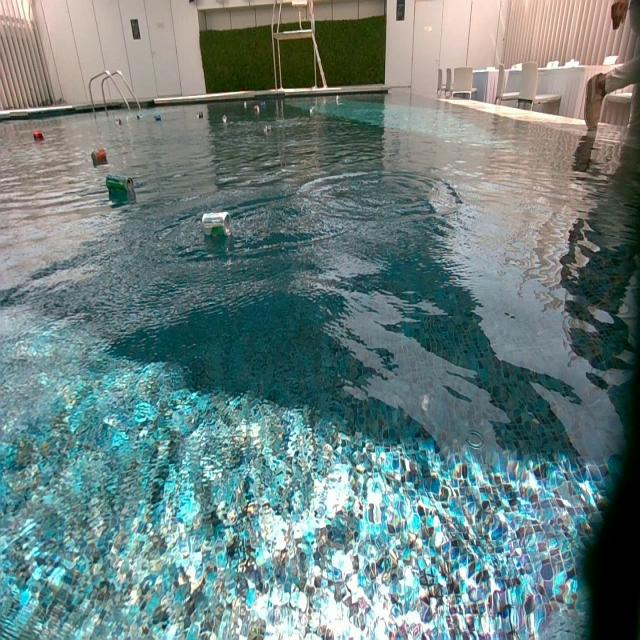Cans: (203, 211, 232, 243), (106, 175, 133, 194), (92, 148, 107, 164), (33, 131, 44, 142), (264, 125, 274, 136), (196, 110, 203, 120), (255, 104, 262, 114), (153, 114, 161, 122), (115, 118, 122, 126), (221, 114, 228, 122), (310, 106, 317, 114), (336, 97, 342, 106), (264, 99, 270, 106), (136, 114, 142, 120), (242, 102, 248, 108)
